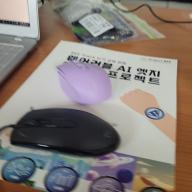mouse: (10, 105, 121, 158), (55, 57, 115, 106)
